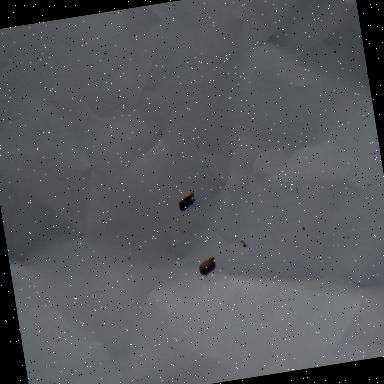pbw: (197, 254, 217, 274), (177, 191, 196, 207)
